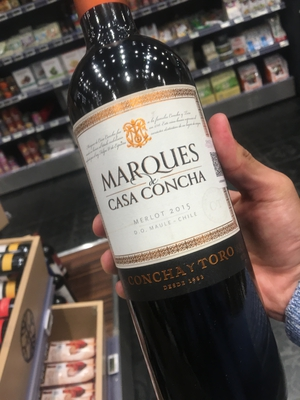marques de casa concha merlot: (62, 15, 253, 355)
